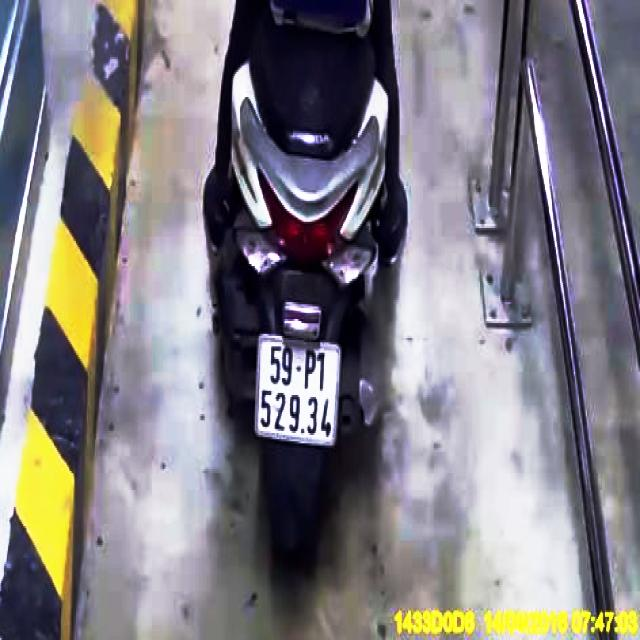license_plate: (257, 332, 341, 448)
